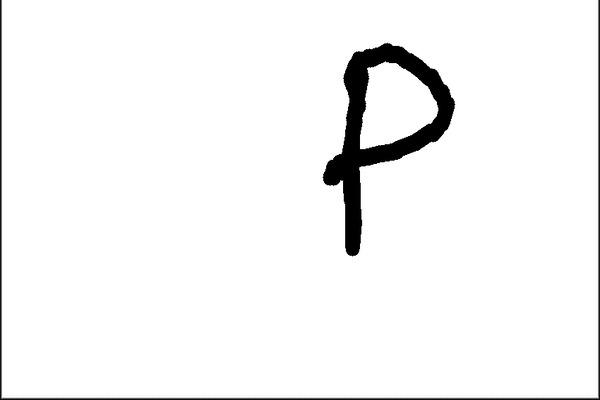P: (315, 33, 473, 269)
